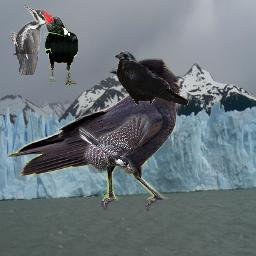Crow: (5, 58, 183, 211), (114, 51, 189, 105), (39, 14, 78, 85)
Woodpecker: (79, 113, 152, 174), (11, 4, 54, 75)
